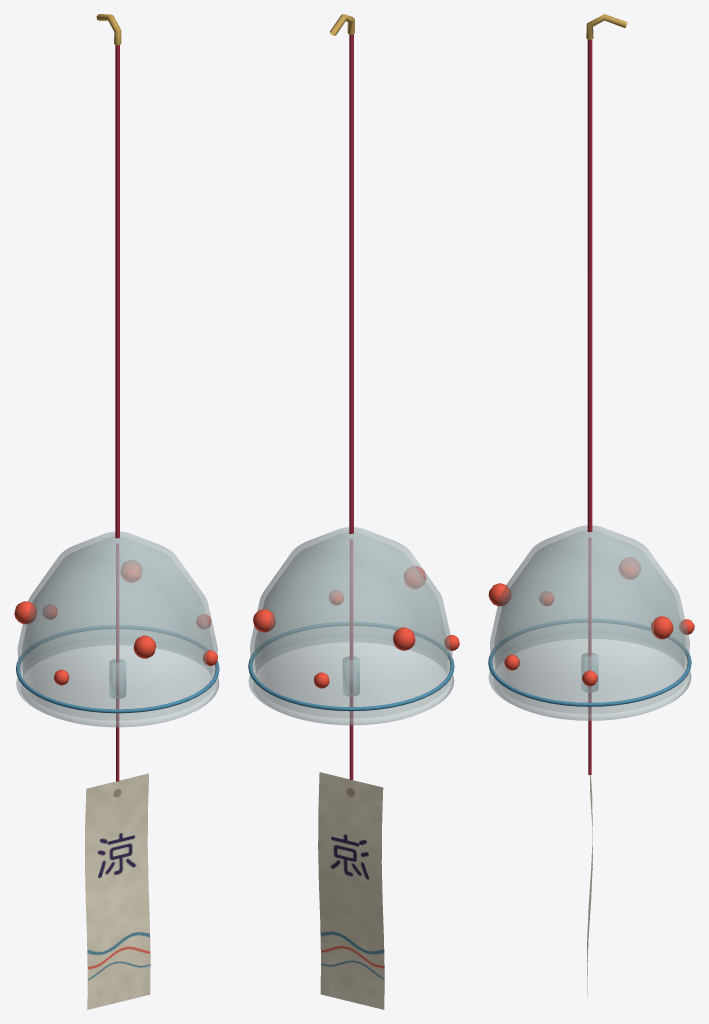
Rendered from furin.glb.
3 views of the same model, side by side, from view 1: azimuth 30°, elevation 25°; view 2: azimuth 150°, elevation 25°; view 3: azimuth 270°, elevation 25° (orthographic).
Visible parts, largest first — view 1: furin_glass, furin_strip, furin_paint, furin_cord, furin_cord2, furin_rod; view 2: furin_glass, furin_strip, furin_paint, furin_cord, furin_cord2, furin_rod; view 3: furin_glass, furin_paint, furin_cord, furin_cord2.
Boxes of the visible parts, box(x1,y1,x2,y2) form: furin_glass: box(16, 531, 219, 727); furin_strip: box(85, 773, 150, 1009); furin_paint: box(14, 560, 219, 713); furin_cord: box(115, 45, 119, 538); furin_cord2: box(116, 543, 119, 781); furin_rod: box(109, 659, 125, 698); furin_glass: box(248, 527, 454, 725); furin_strip: box(318, 772, 384, 1009); furin_paint: box(248, 566, 459, 711); furin_cord: box(349, 34, 353, 533); furin_cord2: box(349, 539, 353, 780); furin_rod: box(343, 656, 359, 696); furin_glass: box(488, 525, 691, 720); furin_paint: box(488, 557, 694, 706); furin_cord: box(587, 39, 592, 532); furin_cord2: box(588, 537, 591, 774).
Size of the model in its own units: 0.2878 by 1.49 by 0.2849.
Materials: 7 (1 with a texture image).
